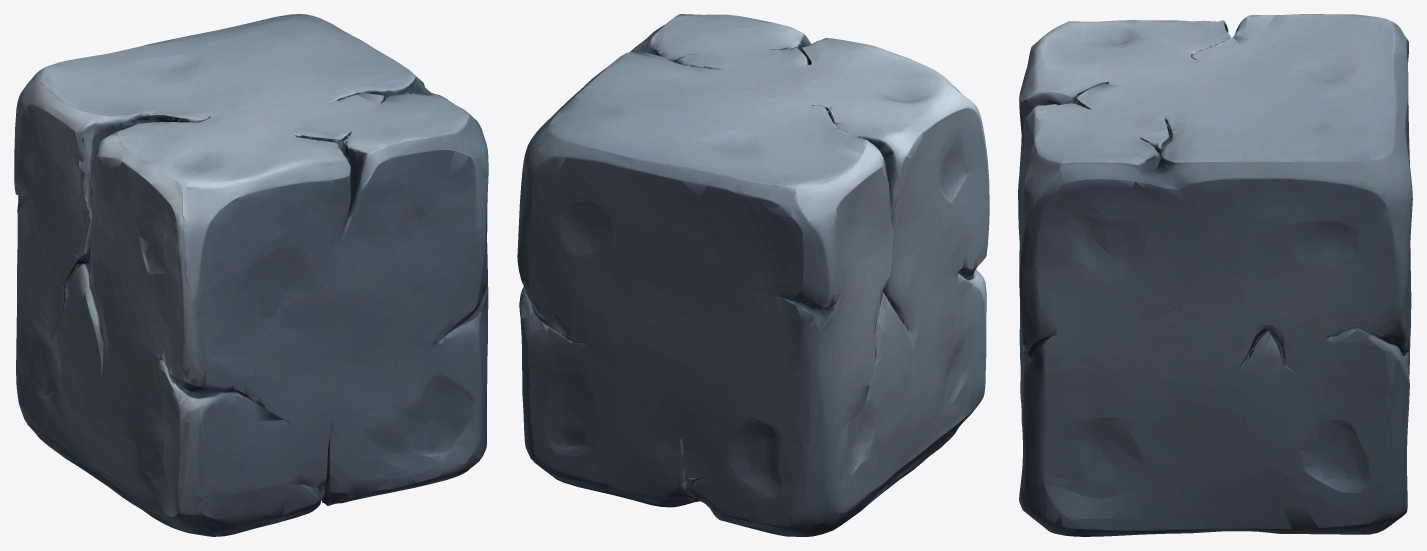
The model's file is kup_tas.glb.
3 views of the same model, side by side, from view 1: azimuth 30°, elevation 25°; view 2: azimuth 150°, elevation 25°; view 3: azimuth 270°, elevation 25° (orthographic). The views are drawn at different scales.
Visible parts, largest first — view 1: tripo_node_760e0828-e559-44c5-898f-4292b17c70d1; view 2: tripo_node_760e0828-e559-44c5-898f-4292b17c70d1; view 3: tripo_node_760e0828-e559-44c5-898f-4292b17c70d1.
Boxes of the visible parts, x1,y1,x2,y2 form: tripo_node_760e0828-e559-44c5-898f-4292b17c70d1: [14, 14, 488, 536]; tripo_node_760e0828-e559-44c5-898f-4292b17c70d1: [517, 14, 989, 536]; tripo_node_760e0828-e559-44c5-898f-4292b17c70d1: [1018, 14, 1412, 536].
Bounding box in the file's own units: 0.9008 × 0.9793 × 0.9111.
Materials: 1 (1 with a texture image).
